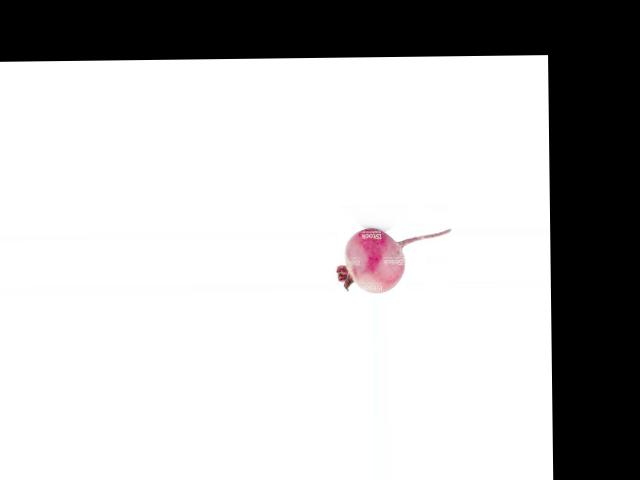beet: (335, 227, 450, 293)
